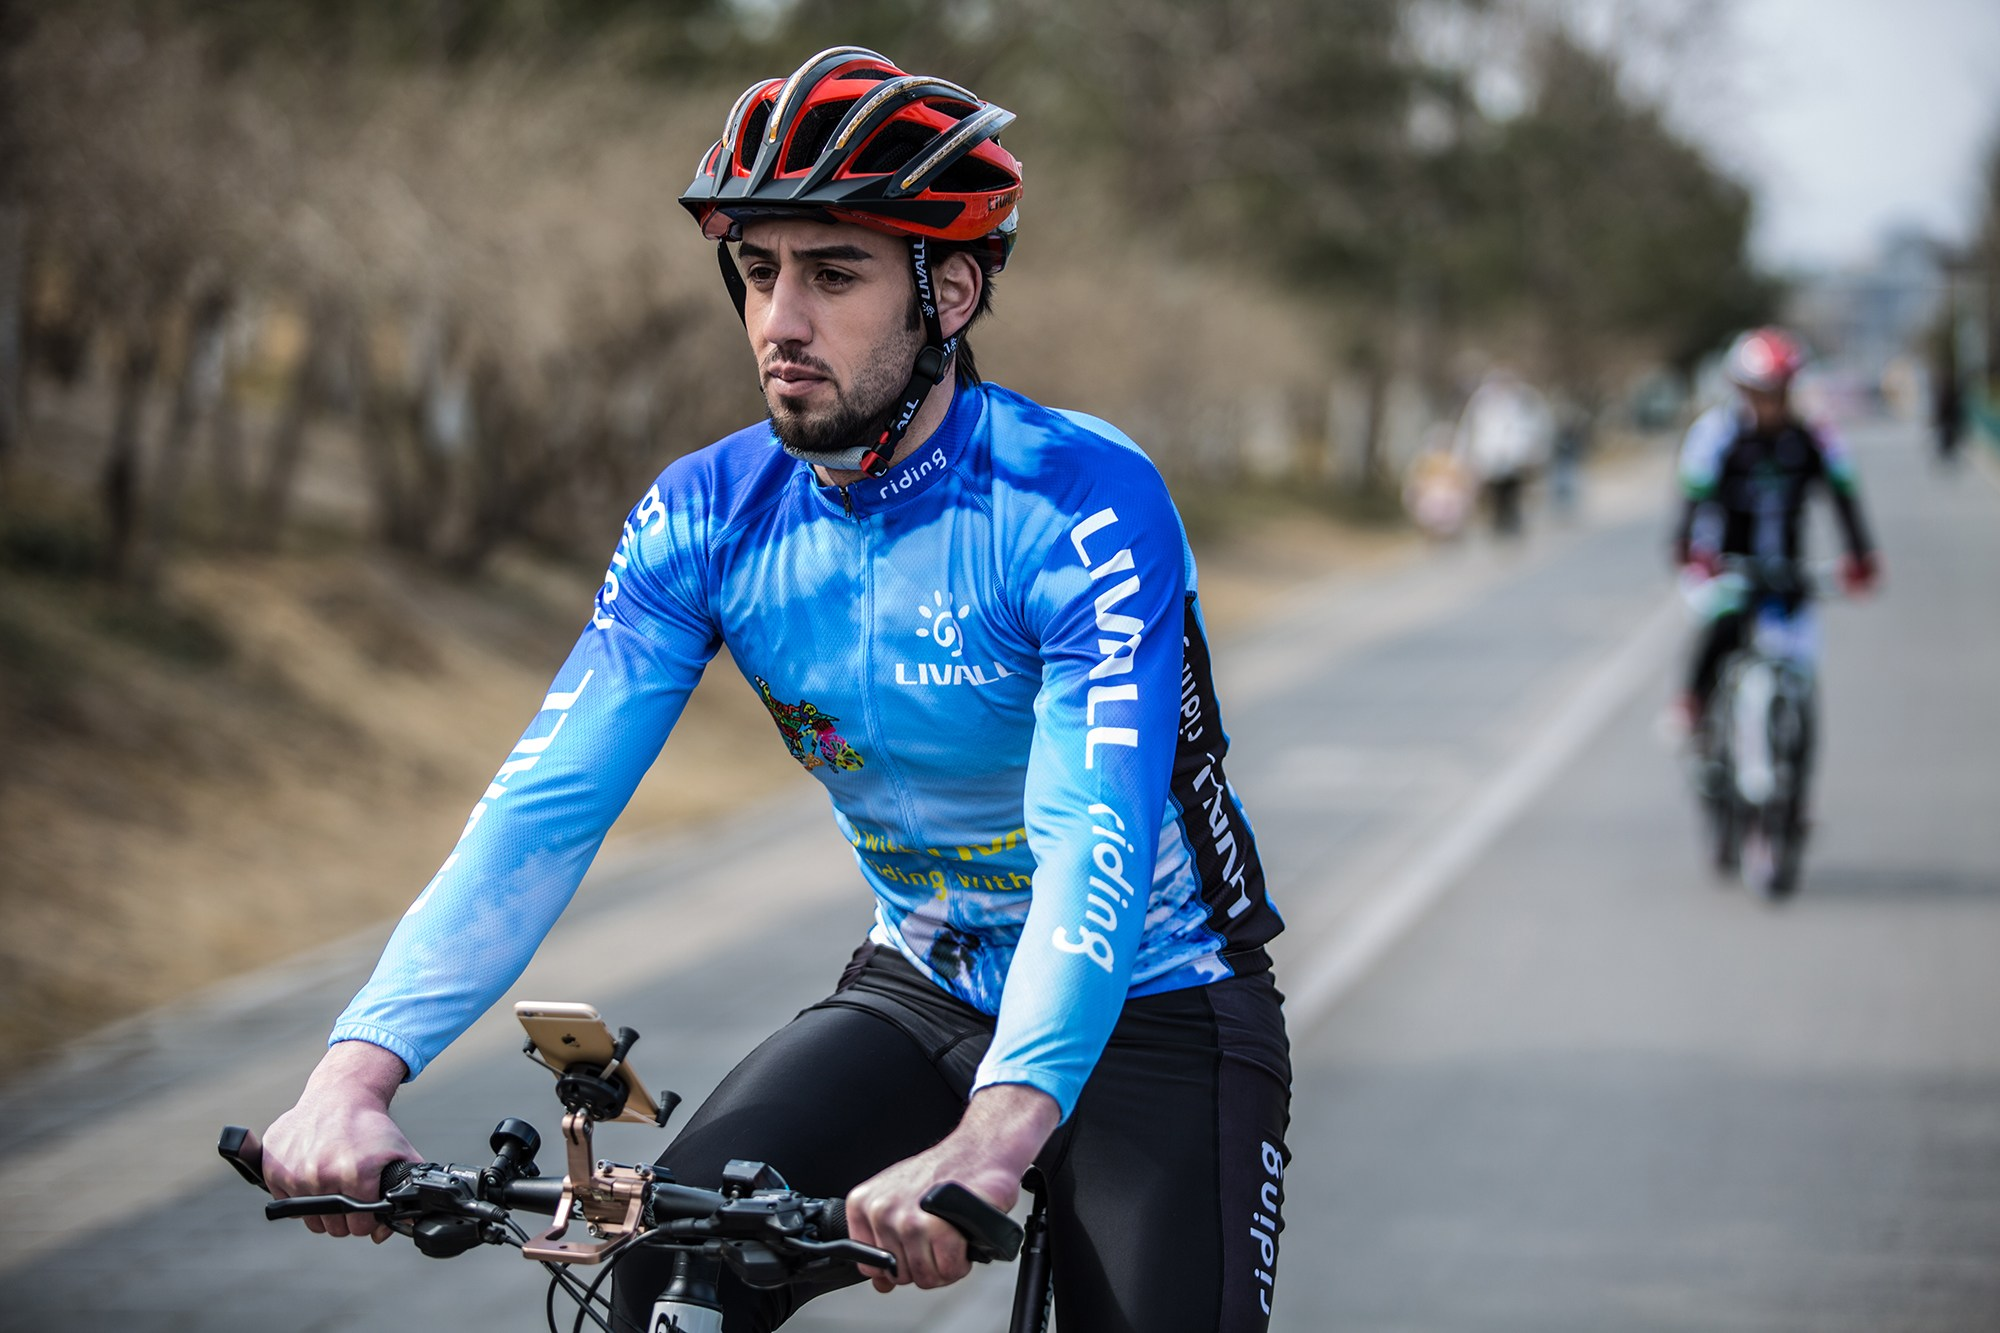helmet: (671, 42, 1023, 248)
